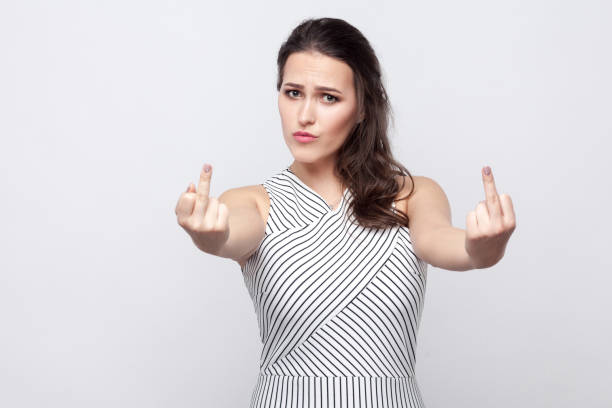insulting_gesture: (459, 165, 517, 269), (172, 161, 233, 252)
